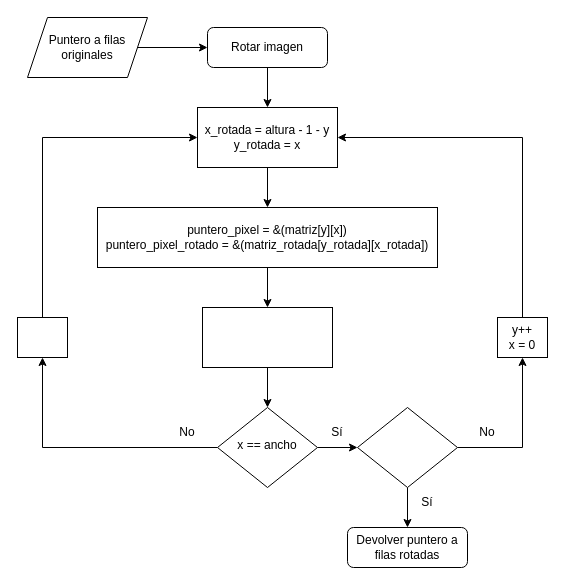
This 565x585 diagram has some shape labels left out. The shapes that lost their labels are listed below. From the top down, each one's centre as x and y in pixels, then its label:
the point at 42,337: x++
the point at 267,337: pixel_rotado <-- pixel
the point at 407,447: y == altura
